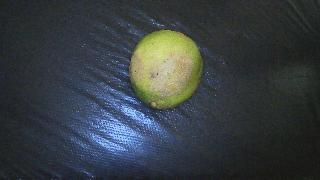DESECHO: (129, 30, 203, 109)
